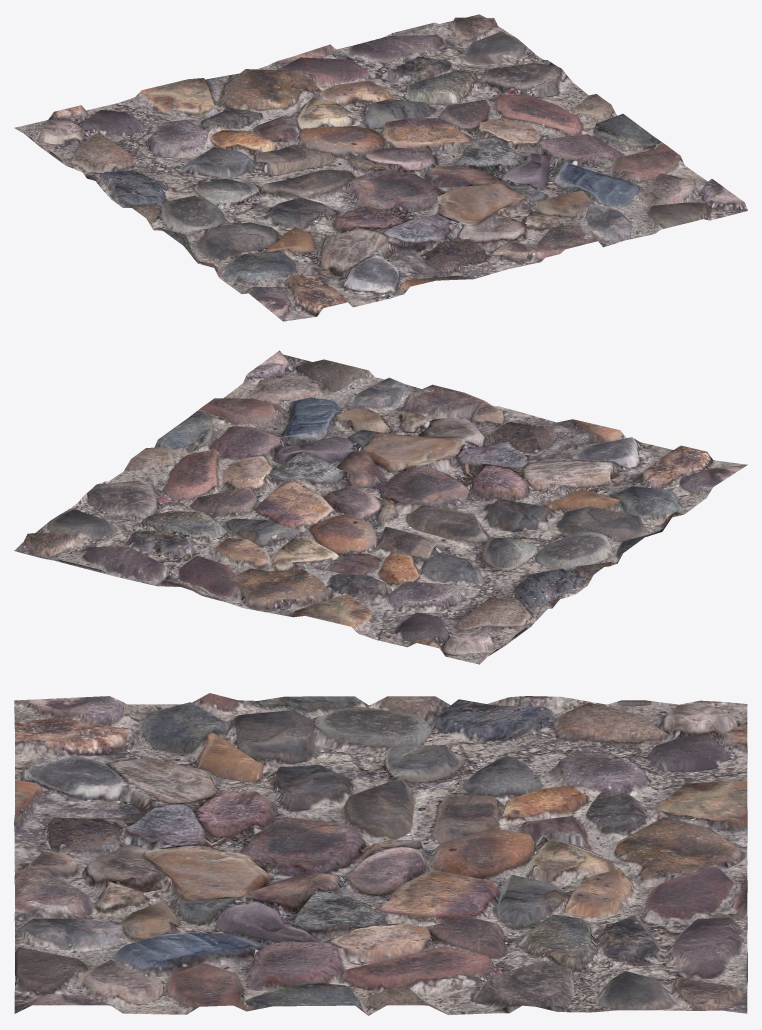
The model's file is brick.fbx.
3 views of the same model, one above another, from view 1: azimuth 30°, elevation 25°; view 2: azimuth 150°, elevation 25°; view 3: azimuth 270°, elevation 25° (orthographic). The views are drawn at different scales.
Visible parts, largest first — view 1: Plane; view 2: Plane; view 3: Plane.
Boxes of the visible parts, box(x1,y1,x2,y2) form: Plane: box(14, 14, 747, 321); Plane: box(14, 350, 747, 664); Plane: box(14, 693, 747, 1015).
Size of the model in its own units: 767 by 16.4 by 767.
